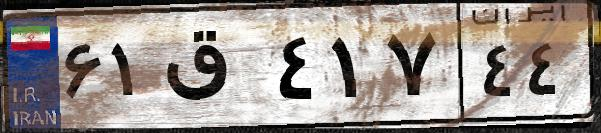1: (330, 28, 385, 110), (110, 28, 158, 98)
4: (270, 28, 330, 110), (475, 38, 525, 113), (525, 38, 570, 115)
6: (57, 26, 110, 100)
7: (385, 28, 445, 110)
ق: (158, 20, 270, 120)
